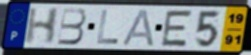5: (192, 9, 223, 49)
A: (120, 8, 156, 47)
B: (56, 7, 88, 46)
E: (159, 9, 196, 48)
H: (22, 7, 61, 46)
L: (96, 9, 120, 46)
